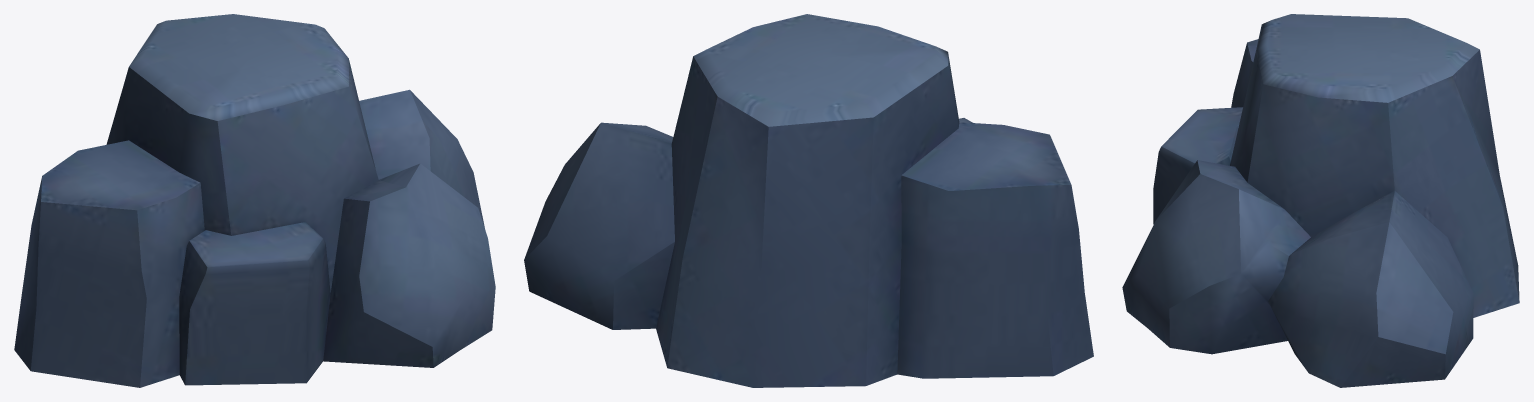
The picture shows the model from 3 angles, left to right: view 1: azimuth 30°, elevation 25°; view 2: azimuth 150°, elevation 25°; view 3: azimuth 270°, elevation 25°; orthographic projection. The views are drawn at different scales.
Parts seen in each view (by area): view 1: yanshi_02; view 2: yanshi_02; view 3: yanshi_02.
Part boxes in pixels (x1,y1,x2,y2): yanshi_02: [14, 14, 495, 387]; yanshi_02: [524, 14, 1093, 387]; yanshi_02: [1122, 14, 1519, 387].
Bounding box in the file's own units: 3.48 × 1.67 × 2.62.
1 material, 1 textured.
